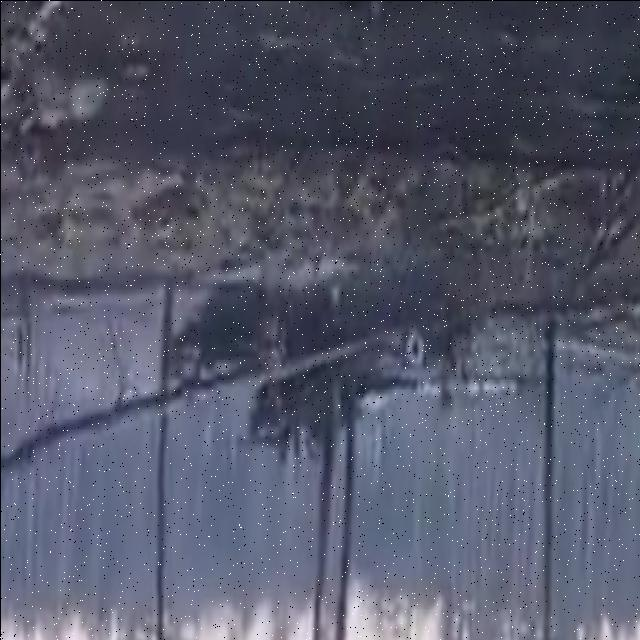TANK: (175, 263, 535, 467)
